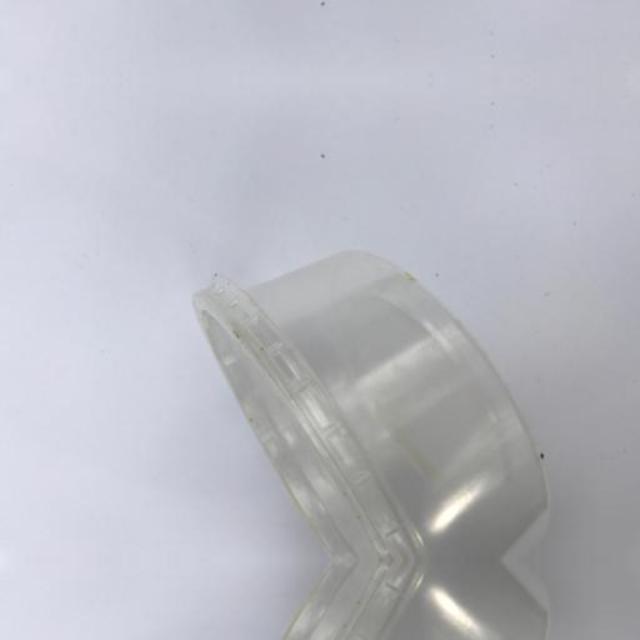Plastic: (179, 212, 571, 560), (179, 560, 571, 640)
